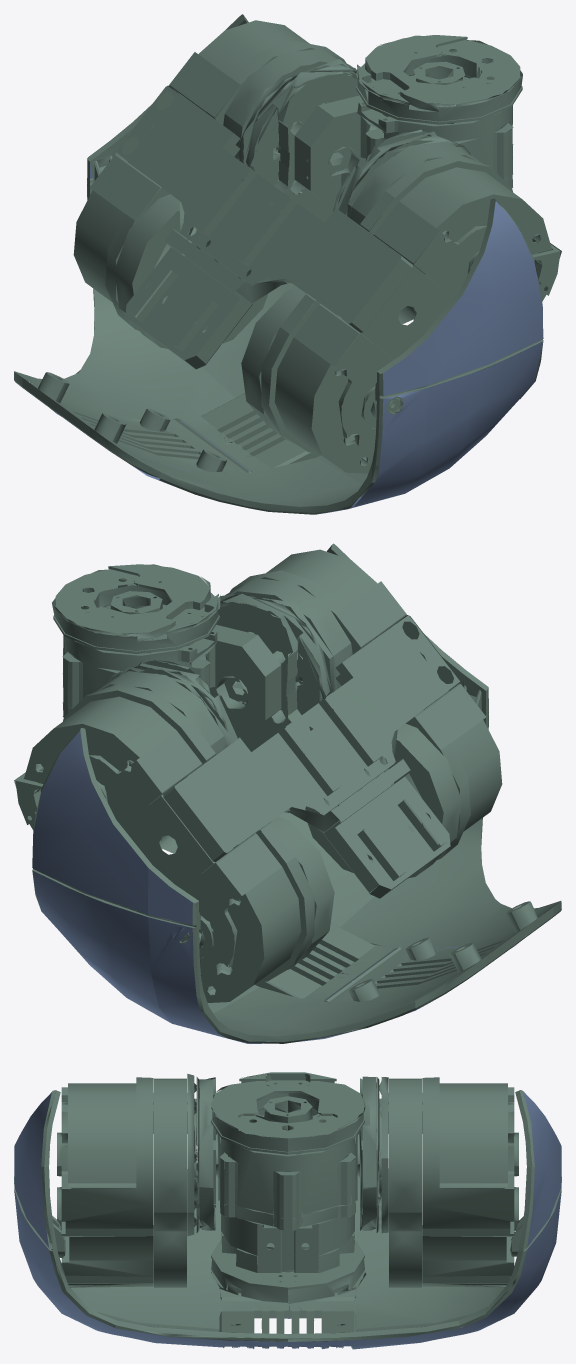
File: icub_lap_belt_1.dae
3 views of the same model, one above another, from view 1: azimuth 30°, elevation 25°; view 2: azimuth 150°, elevation 25°; view 3: azimuth 270°, elevation 25° (orthographic). The views are drawn at different scales.
Visible parts, largest first — view 1: pelvis_mesh; view 2: pelvis_mesh; view 3: pelvis_mesh.
Boxes of the visible parts, x1,y1,x2,y2 form: pelvis_mesh: (14,14,561,514); pelvis_mesh: (14,543,561,1043); pelvis_mesh: (14,1072,561,1349).
Bounding box in the file's own units: 0.1962 × 0.136 × 0.2204.
